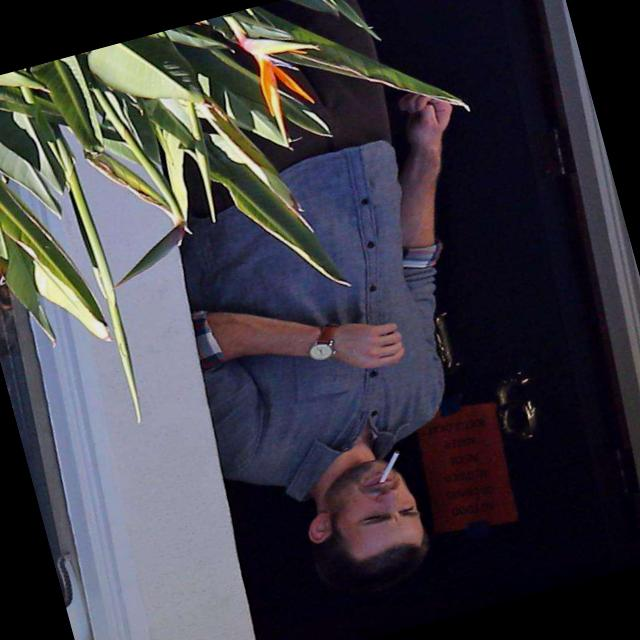smoke: (350, 432, 413, 495)
